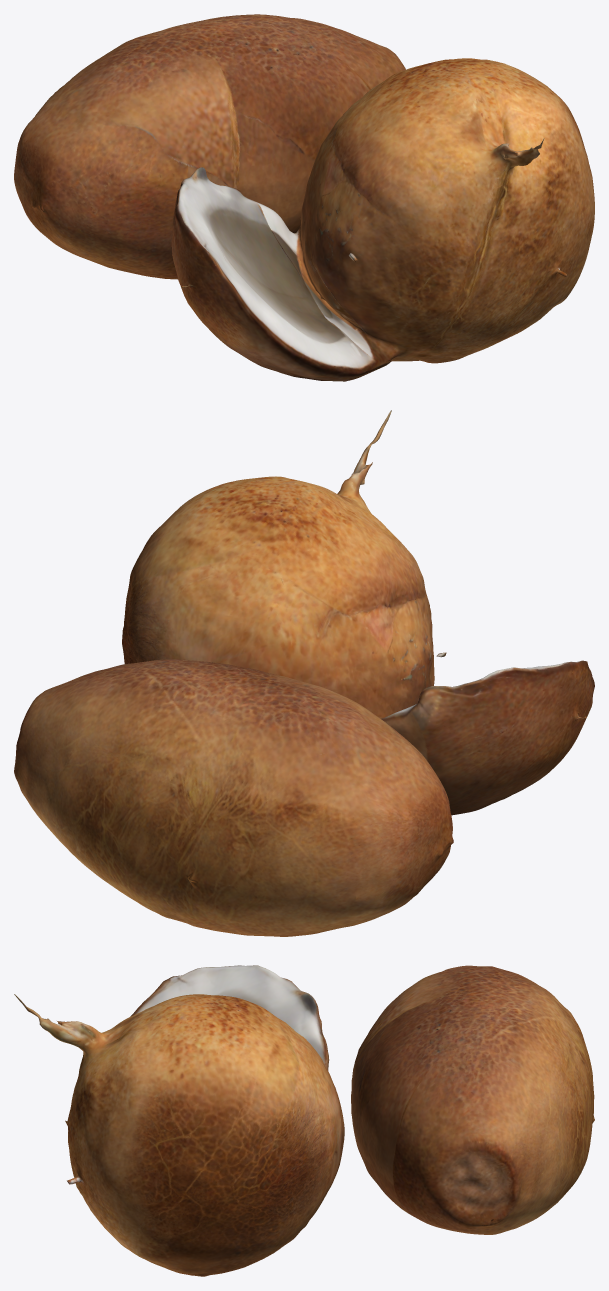
3 views of the same model, one above another, from view 1: azimuth 30°, elevation 25°; view 2: azimuth 150°, elevation 25°; view 3: azimuth 270°, elevation 25° (orthographic). The views are drawn at different scales.
Visible parts, largest first — view 1: texture; view 2: texture; view 3: texture.
Boxes of the visible parts, x1=… form: texture: x1=14, y1=14, x2=594, y2=381; texture: x1=14, y1=410, x2=594, y2=936; texture: x1=14, y1=965, x2=594, y2=1276.
Bounding box in the file's own units: 1.43 × 0.9218 × 1.8.
1 material, 1 textured.
